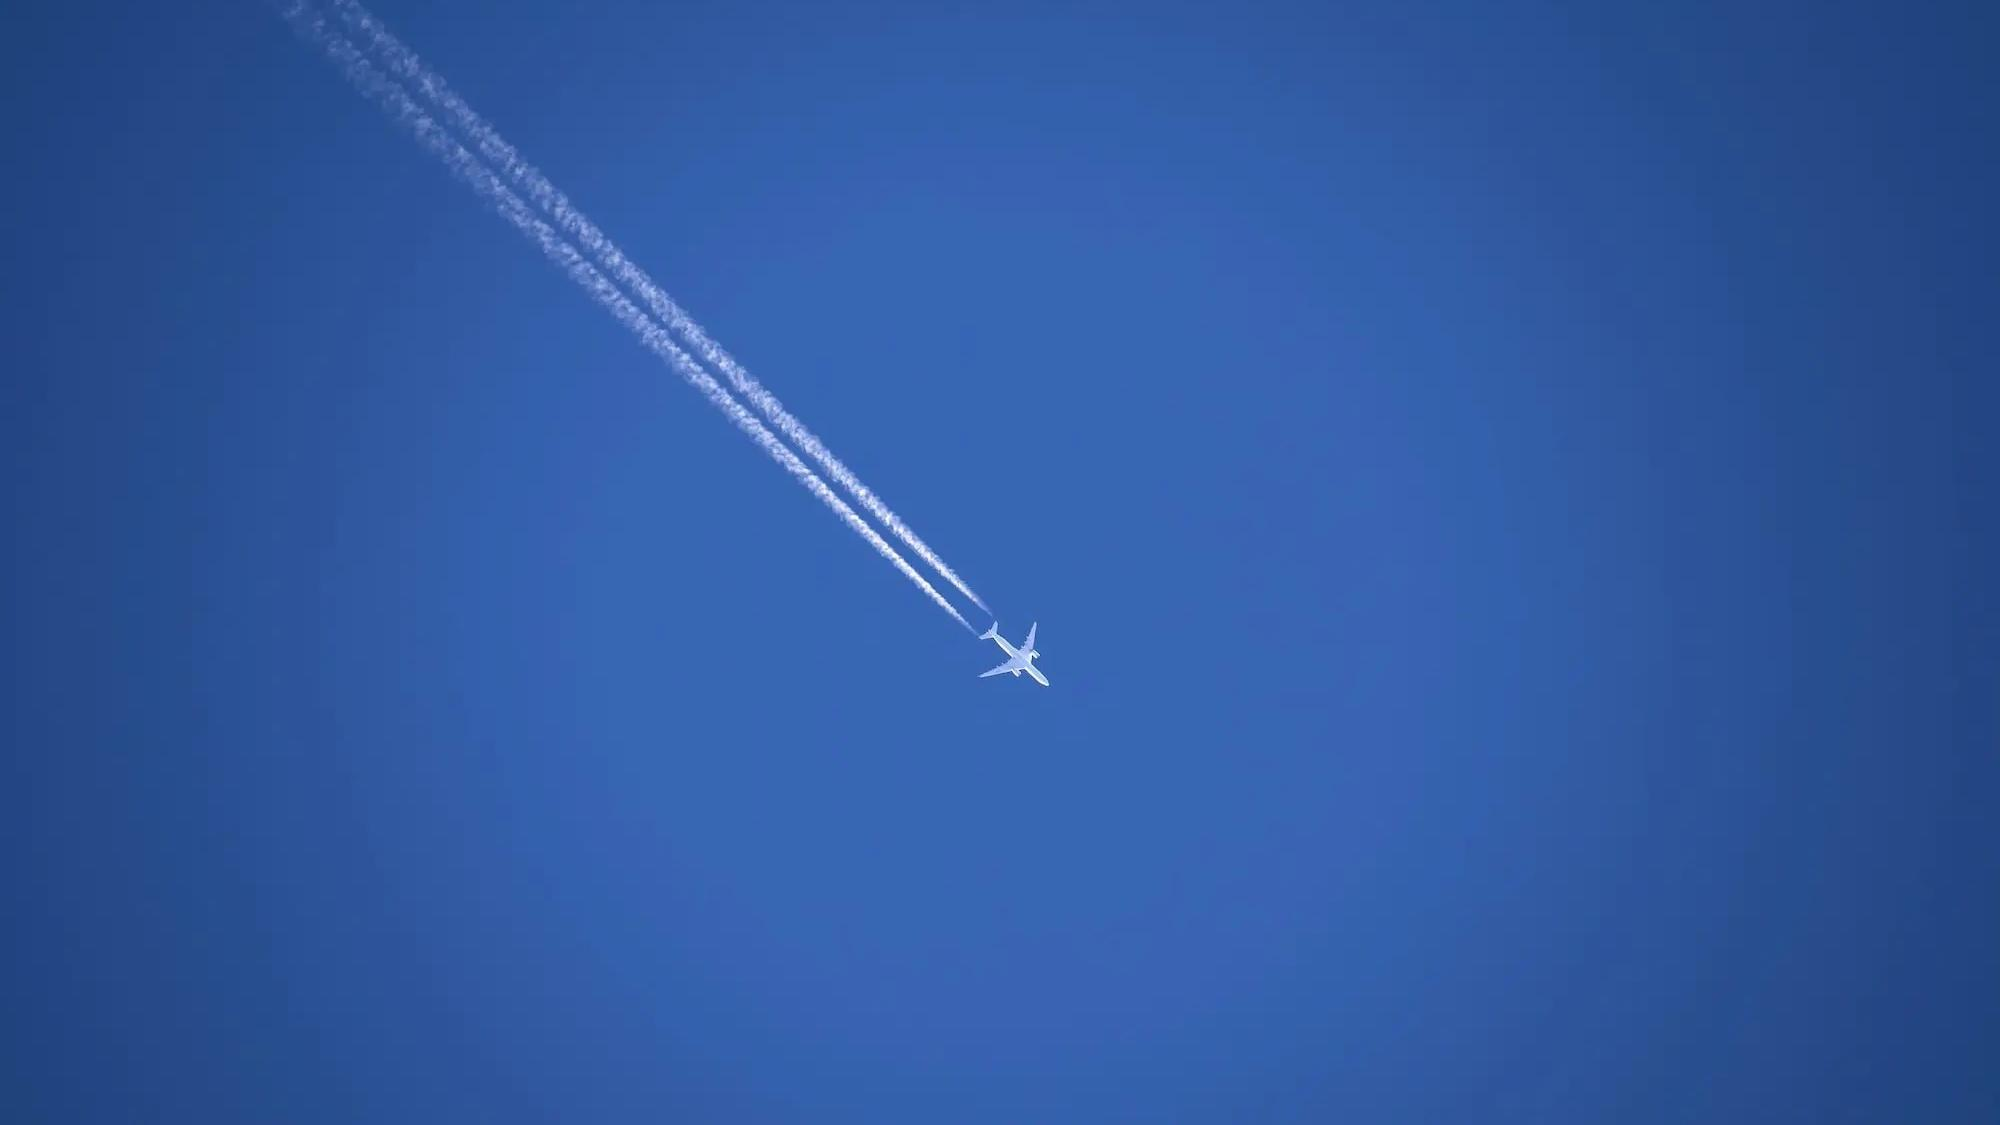Plane: (549, 246, 1125, 684)
